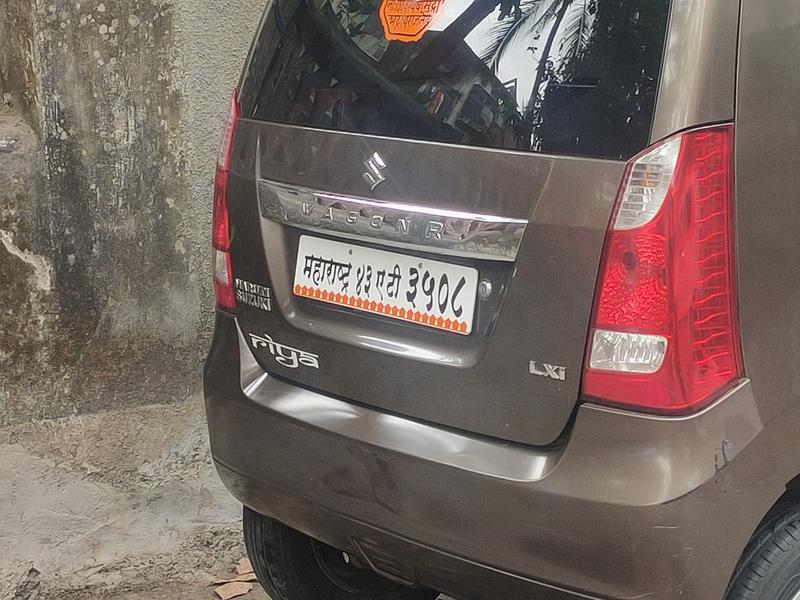license_plate: (289, 224, 500, 359)
